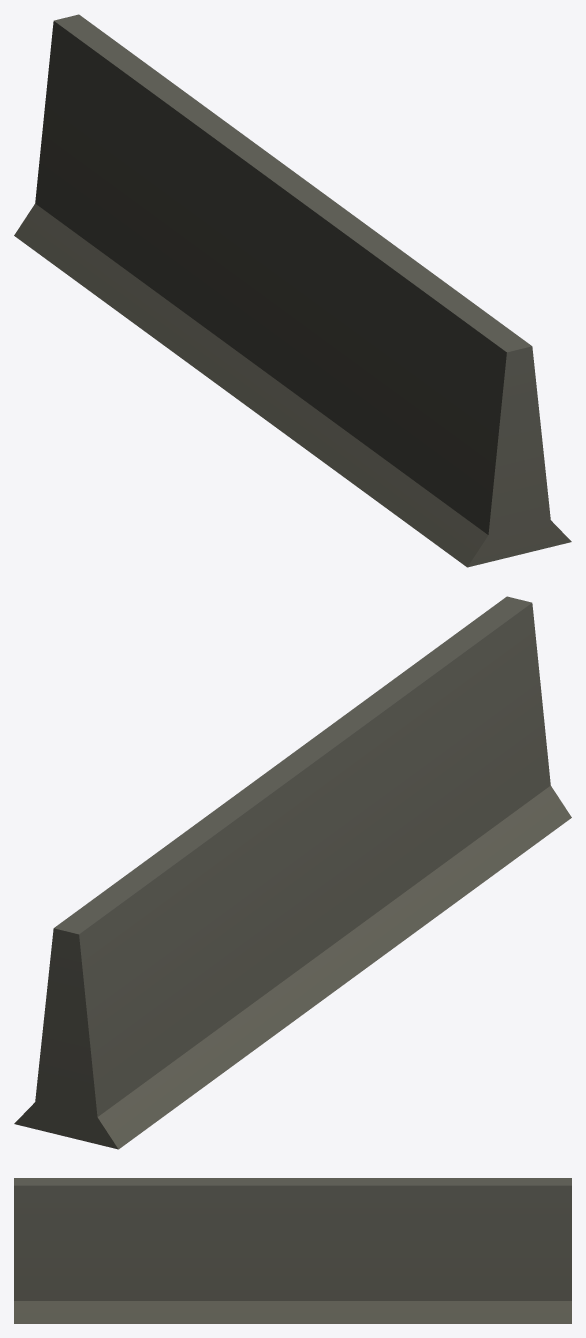
File: RoadPart_07.fbx
3 views of the same model, one above another, from view 1: azimuth 30°, elevation 25°; view 2: azimuth 150°, elevation 25°; view 3: azimuth 270°, elevation 25° (orthographic). The views are drawn at different scales.
Parts seen in each view (by area): view 1: RoadPart_07; view 2: RoadPart_07; view 3: RoadPart_07.
Part boxes in pixels (<box>): RoadPart_07: <box>14,14,571,567</box>; RoadPart_07: <box>14,596,571,1149</box>; RoadPart_07: <box>14,1178,571,1323</box>.
Bounding box in the file's own units: 0.4 × 0.75 × 3.
